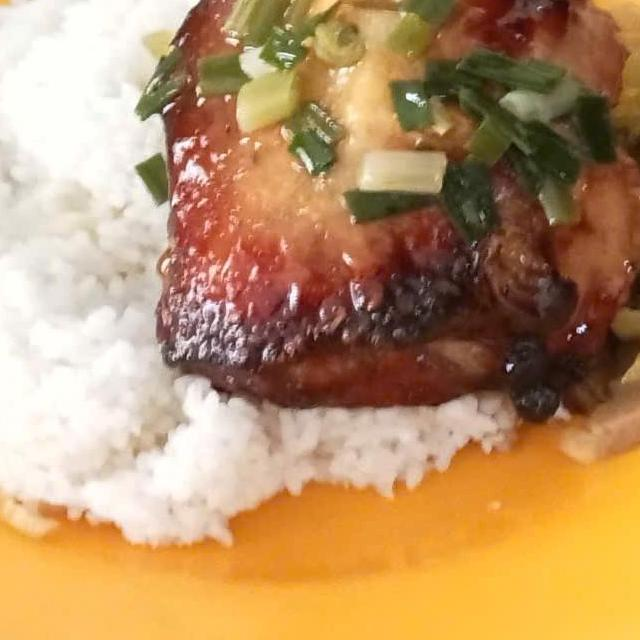com: (0, 0, 282, 558), (70, 376, 534, 558)
dua chua: (560, 2, 640, 467)
thit ga: (133, 0, 640, 434)
